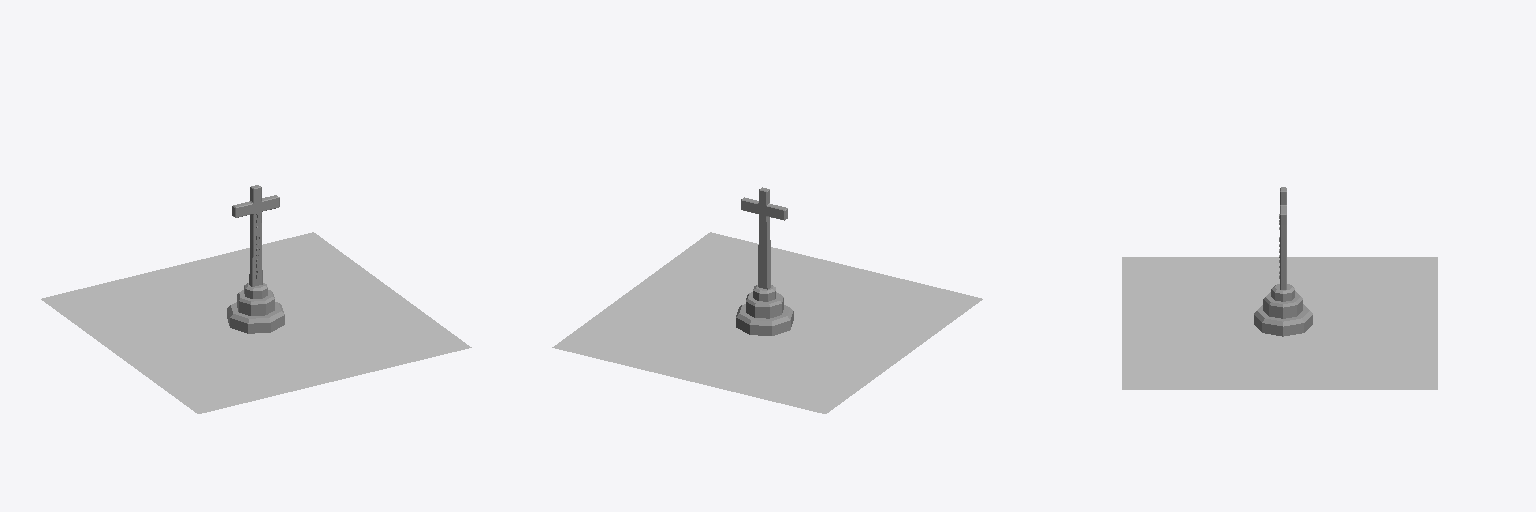
File: Cross.obj
The picture shows the model from 3 angles: view 1: azimuth 30°, elevation 25°; view 2: azimuth 150°, elevation 25°; view 3: azimuth 270°, elevation 25°; orthographic projection.
Visible parts, largest first — view 1: Plane, Base_Cylinder; view 2: Plane, Base_Cylinder; view 3: Plane, Base_Cylinder.
Part boxes in pixels (x1,y1,x2,y2): Plane: (41,232,471,413); Base_Cylinder: (227,185,284,333); Plane: (552,232,982,413); Base_Cylinder: (736,187,793,335); Plane: (1122,257,1437,389); Base_Cylinder: (1254,187,1312,336).
Size of the model in its own units: 7.94 by 3.75 by 7.94.